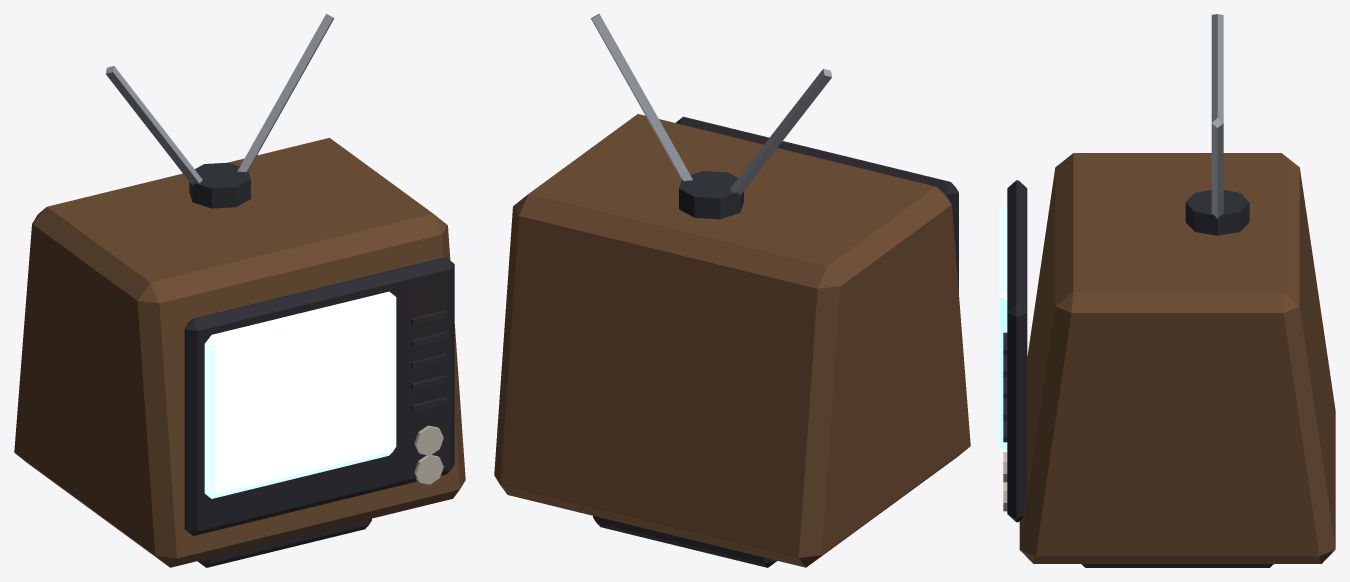
File: crt_tv.glb
3 views of the same model, side by side, from view 1: azimuth 30°, elevation 25°; view 2: azimuth 150°, elevation 25°; view 3: azimuth 270°, elevation 25° (orthographic). The views are drawn at different scales.
Parts seen in each view (by area): view 1: crt_tv; view 2: crt_tv; view 3: crt_tv.
Boxes of the visible parts, box(x1,y1,x2,y2) form: crt_tv: box(14, 14, 465, 567); crt_tv: box(494, 14, 970, 567); crt_tv: box(999, 14, 1335, 567).
Size of the model in its own units: 0.9 by 1.28 by 0.8397.
